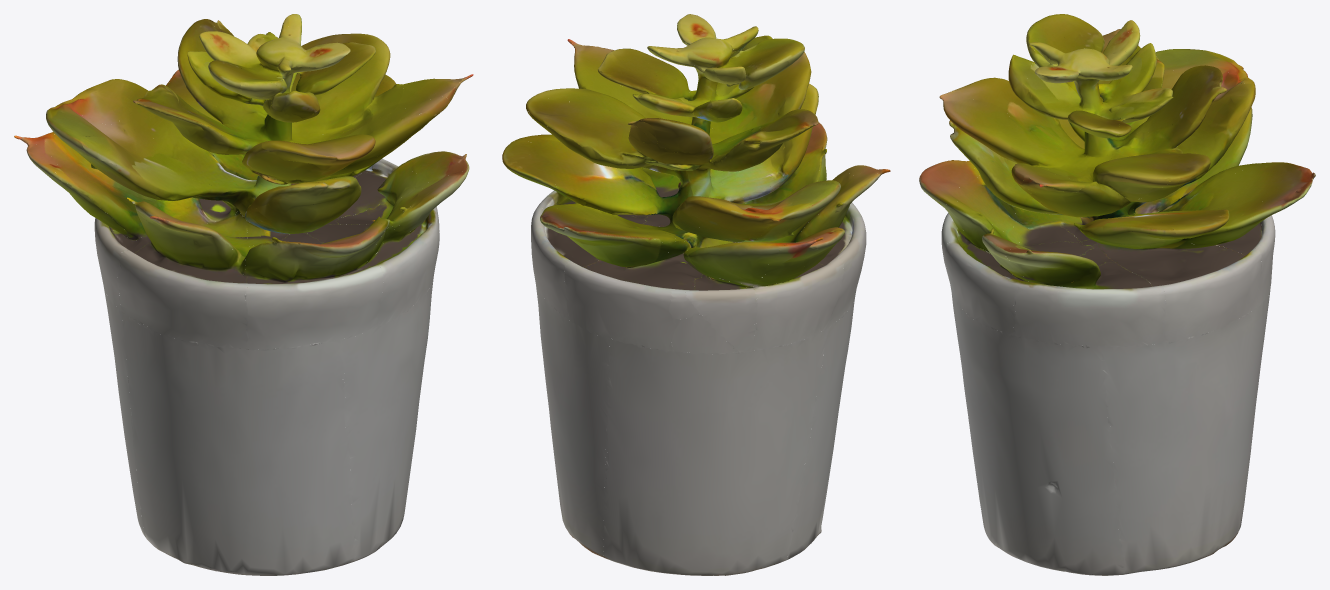
The picture shows the model from 3 angles, left to right: view 1: azimuth 30°, elevation 25°; view 2: azimuth 150°, elevation 25°; view 3: azimuth 270°, elevation 25°; orthographic projection. The views are drawn at different scales.
Visible parts, largest first — view 1: tripo_node_ea9d3532-5319-4161-bfc7-0ce9e741cefa; view 2: tripo_node_ea9d3532-5319-4161-bfc7-0ce9e741cefa; view 3: tripo_node_ea9d3532-5319-4161-bfc7-0ce9e741cefa.
Boxes of the visible parts, x1,y1,x2,y2 form: tripo_node_ea9d3532-5319-4161-bfc7-0ce9e741cefa: (14, 14, 473, 575); tripo_node_ea9d3532-5319-4161-bfc7-0ce9e741cefa: (502, 14, 890, 575); tripo_node_ea9d3532-5319-4161-bfc7-0ce9e741cefa: (919, 14, 1315, 575).
Size of the model in its own units: 0.1362 by 0.1778 by 0.1335.
Materials: 1 (1 with a texture image).
